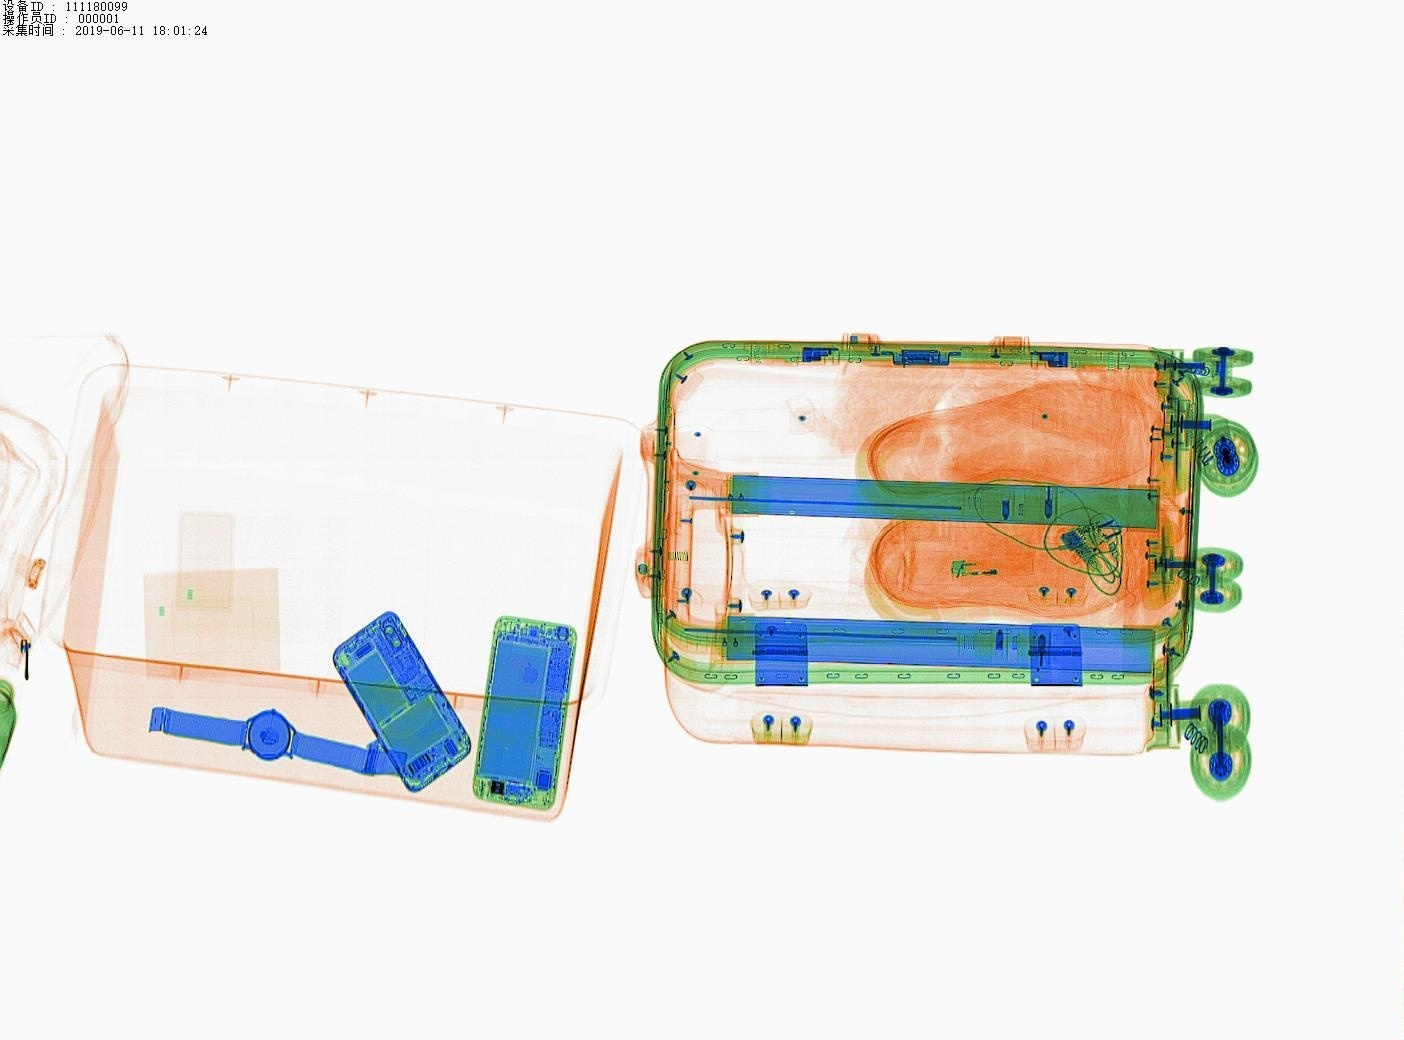NonmetallicFire: (937, 534, 1061, 601)
